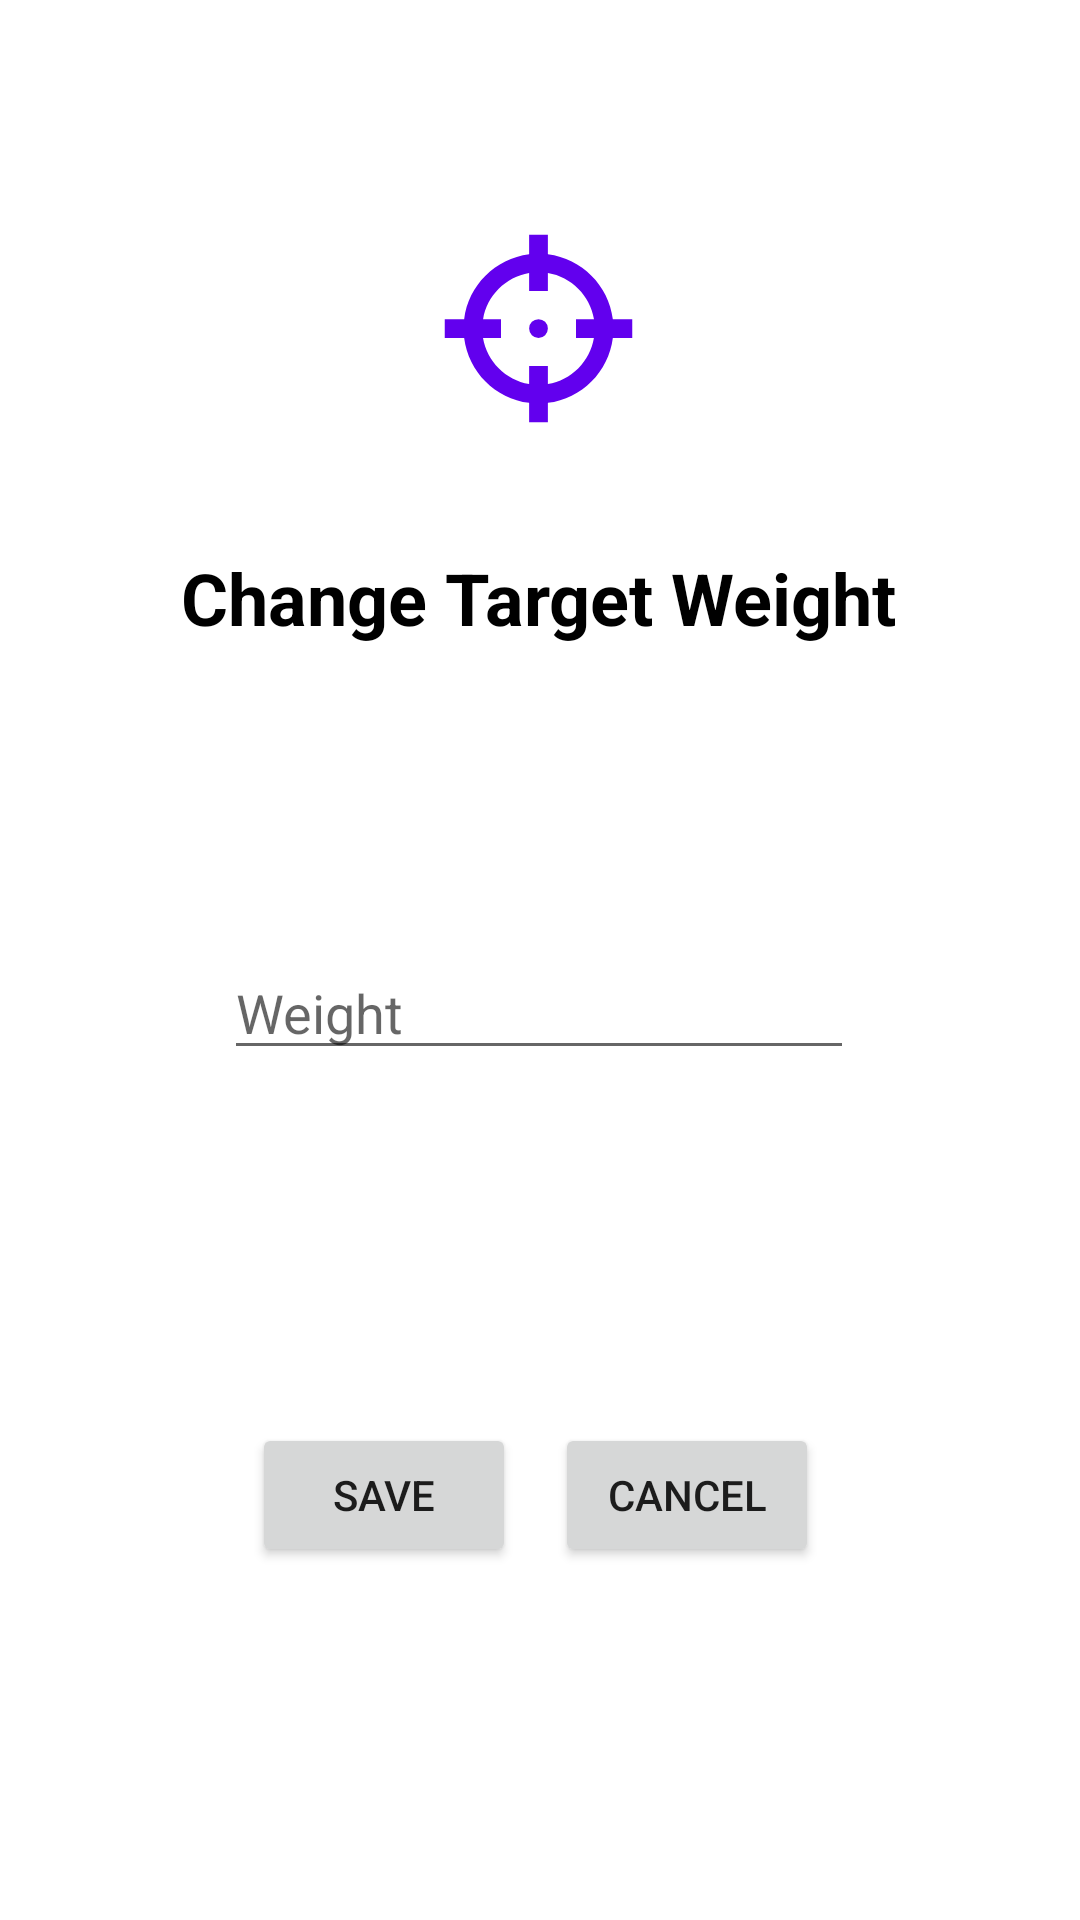

Named icons in this screenshot (1080px x 1920px) and their bounding boxes, (x1, y1, x2, y2):
target orig: (444, 234, 633, 423)
